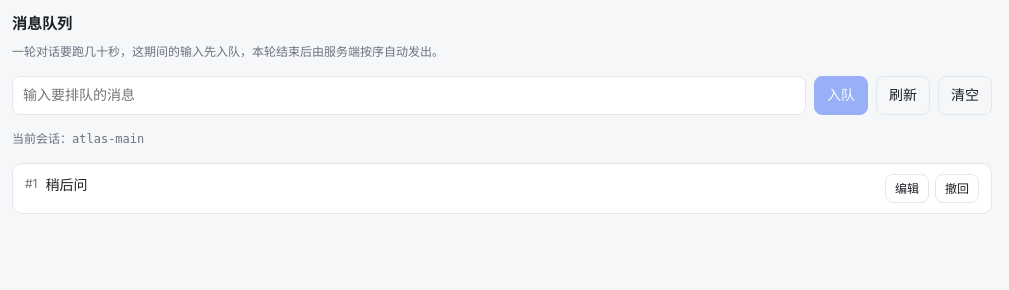
Test case: 队列页：入队 / 撤回都打到正确的接口，列表跟着变
Expected: the text "稍后问" is shown, [46, 174, 88, 196]
Type "新问题" into the field with placeholder "输入要排队的消息" at (409, 96), box [12, 76, 806, 115]
Then press Enter
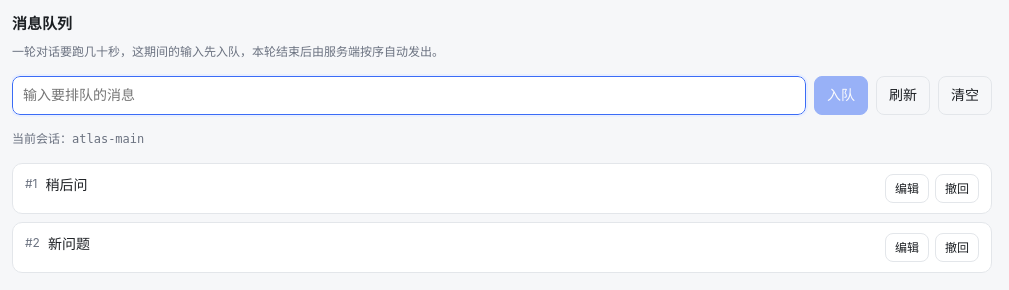
Result: the text "新问题" is shown at [48, 233, 90, 256]
Click the button "撤回" in the row of "稍后问" at (957, 189), box [935, 174, 979, 203]
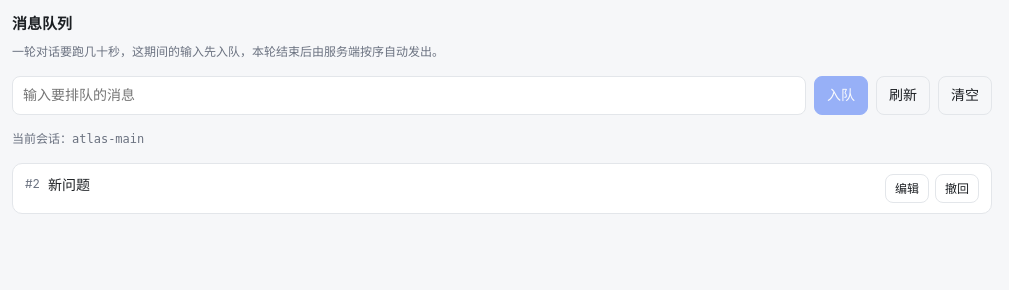
Result: the text "稍后问" is gone
